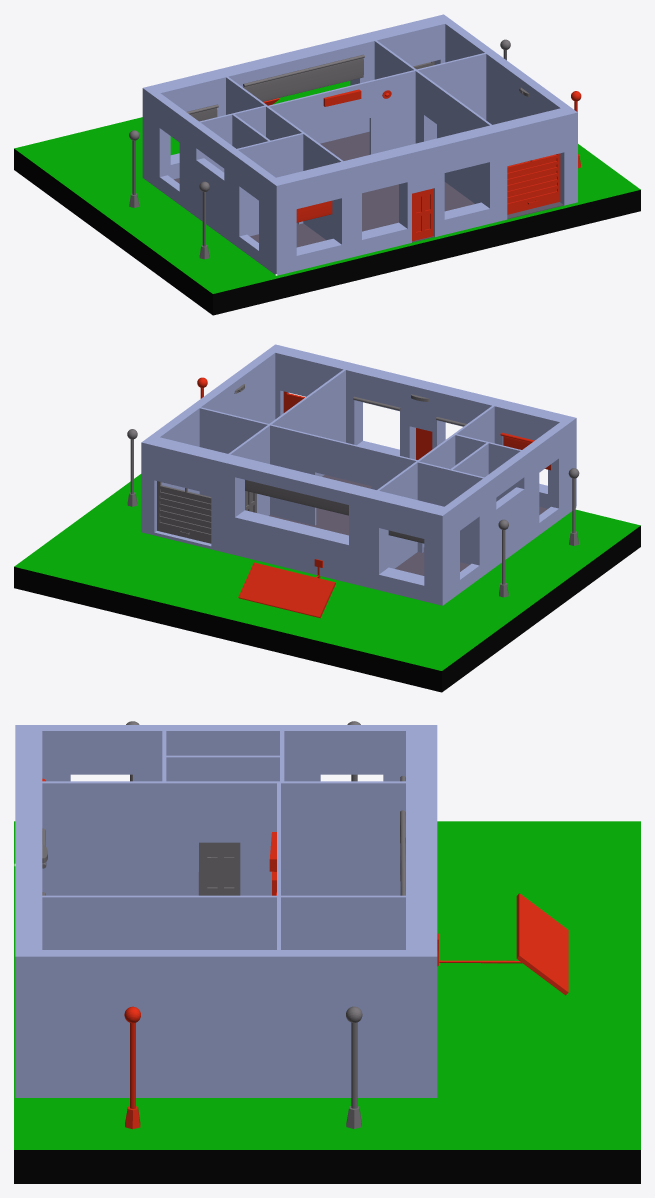
The picture shows the model from 3 angles, top to bottom: view 1: azimuth 30°, elevation 25°; view 2: azimuth 150°, elevation 25°; view 3: azimuth 270°, elevation 25°; orthographic projection. The views are drawn at different scales.
Parts seen in each view (by area): view 1: maquetaSTL, Cube.001, Cubo, porton, Cilindro.014, puerta, Cilindro.004, Cilindro.005, Esfera, Esfera.001; view 2: maquetaSTL, Cube.001, Cubo.004, porton.001, Cubo, Cilindro.014; view 3: maquetaSTL, Cube.001, Cubo.004, puerta.005, Esfera.003, Esfera.002.
Boxes of the visible parts, left/top/right/bottom form: maquetaSTL: left=142, top=14, right=577, bottom=275; Cube.001: left=14, top=81, right=640, bottom=315; Cubo: left=174, top=131, right=563, bottom=247; porton: left=507, top=153, right=560, bottom=214; Cilindro.014: left=243, top=58, right=363, bottom=101; puerta: left=412, top=188, right=433, bottom=241; Cilindro.004: left=296, top=200, right=332, bottom=222; Cilindro.005: left=243, top=54, right=364, bottom=86; Esfera: left=199, top=181, right=209, bottom=259; Esfera.001: left=129, top=130, right=139, bottom=207; maquetaSTL: left=141, top=344, right=576, bottom=605; Cube.001: left=14, top=474, right=640, bottom=692; Cubo.004: left=238, top=562, right=335, bottom=618; porton.001: left=157, top=481, right=211, bottom=543; Cubo: left=269, top=475, right=547, bottom=575; Cilindro.014: left=245, top=480, right=348, bottom=515; maquetaSTL: left=15, top=725, right=437, bottom=1097; Cube.001: left=14, top=821, right=640, bottom=1183; Cubo.004: left=516, top=893, right=568, bottom=995; puerta.005: left=199, top=842, right=240, bottom=895; Esfera.003: left=346, top=1006, right=362, bottom=1128; Esfera.002: left=124, top=1006, right=140, bottom=1129.
Size of the model in its own units: 2.08 by 0.5288 by 1.68.
